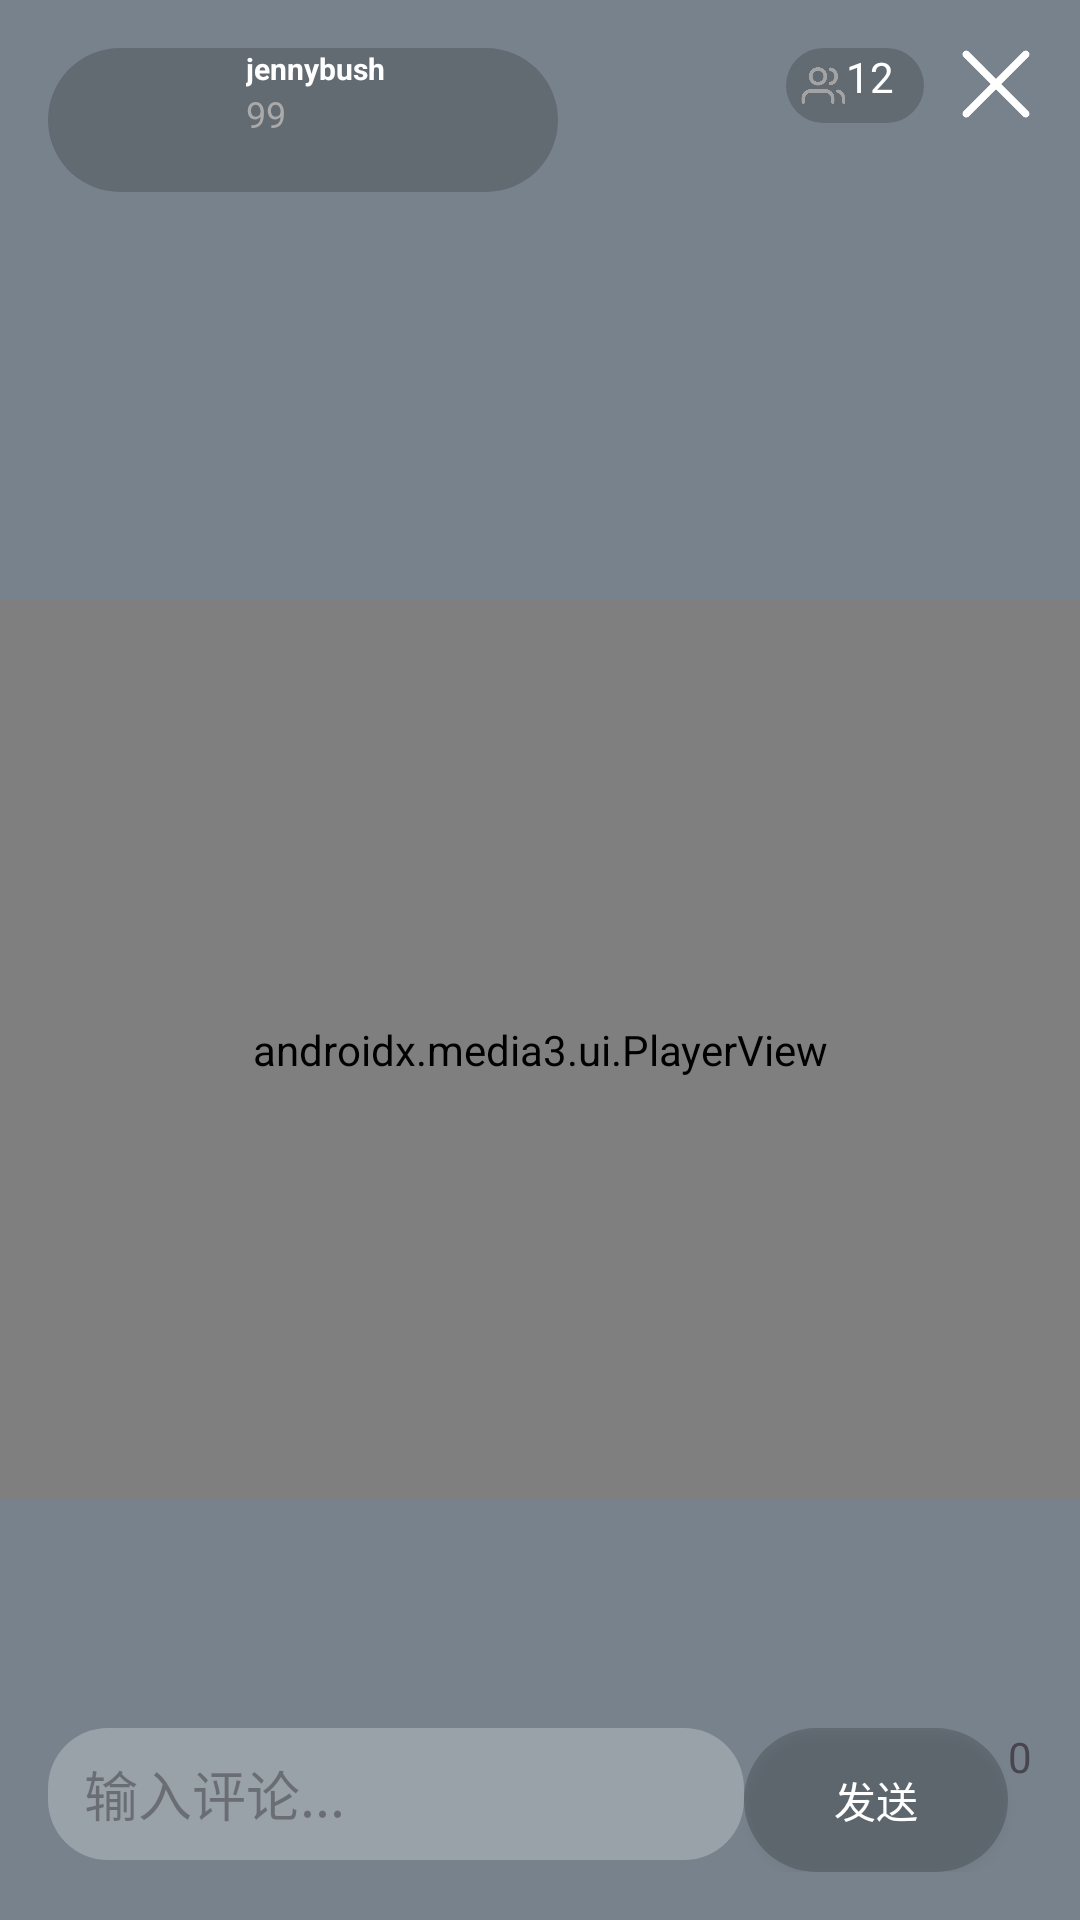

Where icons sit on this 1080*1920 app screen, as bbox=(x1, y1, x2, y2):
close: bbox=(962, 50, 1030, 118)
people: bbox=(802, 67, 845, 104)
